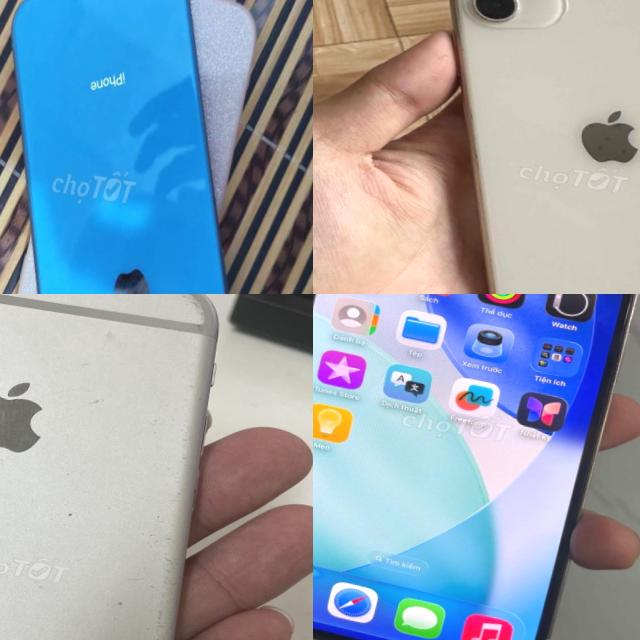gen_11: (386, 0, 640, 294)
gen_15: (313, 294, 640, 640)
gen_6: (0, 294, 217, 640)
gen_x_xs: (12, 0, 227, 294)
